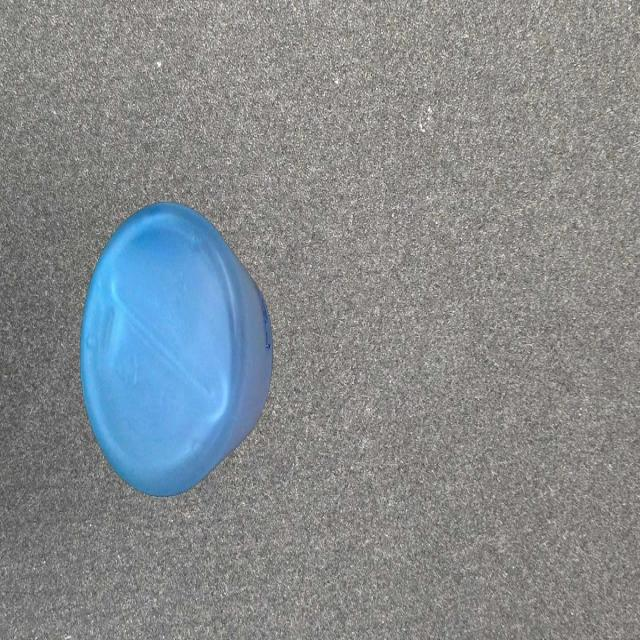bottle: (79, 196, 274, 498)
